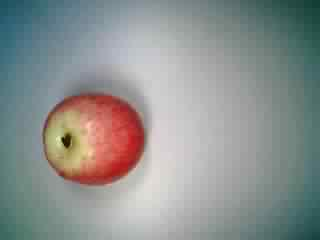apple: (40, 83, 145, 187)
